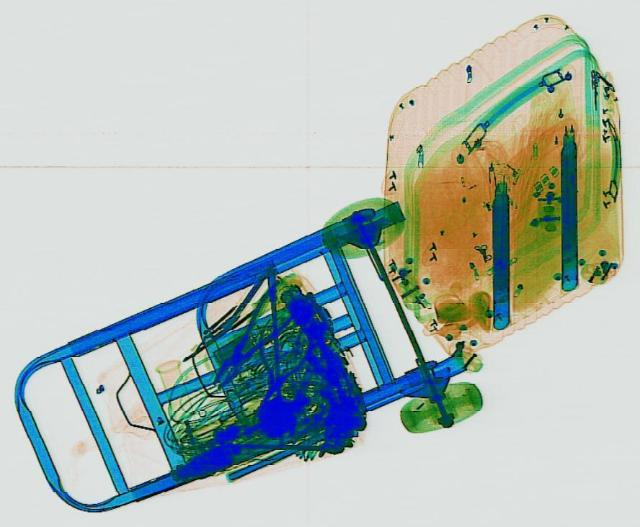Pliers: (197, 276, 311, 395), (236, 324, 316, 421)
